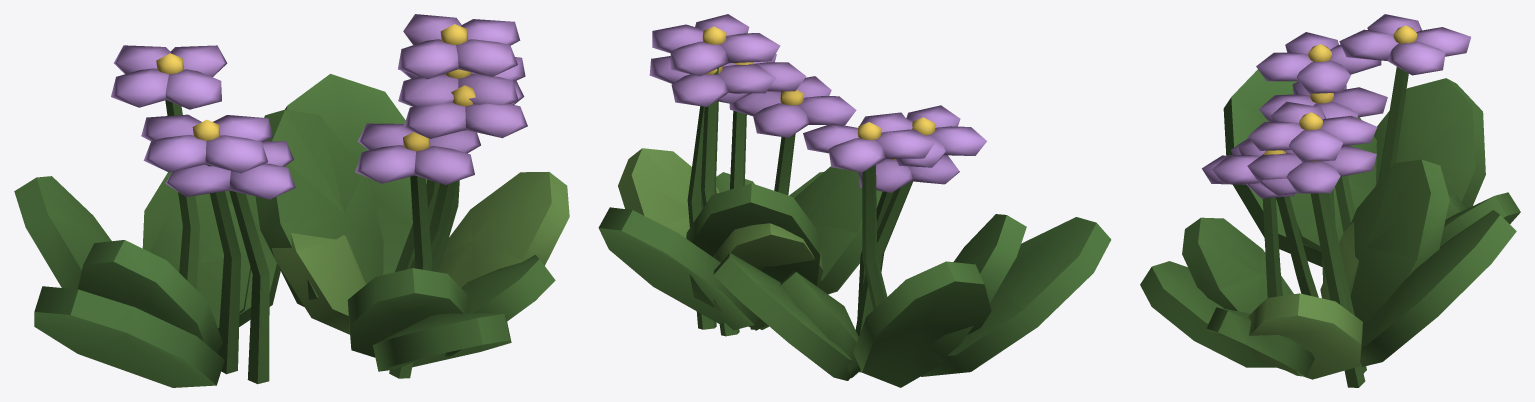
The model's file is shore_gc_sea_rocket_a.glb.
3 views of the same model, side by side, from view 1: azimuth 30°, elevation 25°; view 2: azimuth 150°, elevation 25°; view 3: azimuth 270°, elevation 25° (orthographic). The views are drawn at different scales.
Parts seen in each view (by area): view 1: shore_gc_sea_rocket_a; view 2: shore_gc_sea_rocket_a; view 3: shore_gc_sea_rocket_a.
Part boxes in pixels (left/top/right/bottom): shore_gc_sea_rocket_a: left=14, top=14, right=569, bottom=387; shore_gc_sea_rocket_a: left=598, top=14, right=1111, bottom=387; shore_gc_sea_rocket_a: left=1140, top=14, right=1520, bottom=387.
Bounding box in the file's own units: 2.7 × 1.57 × 1.93.
